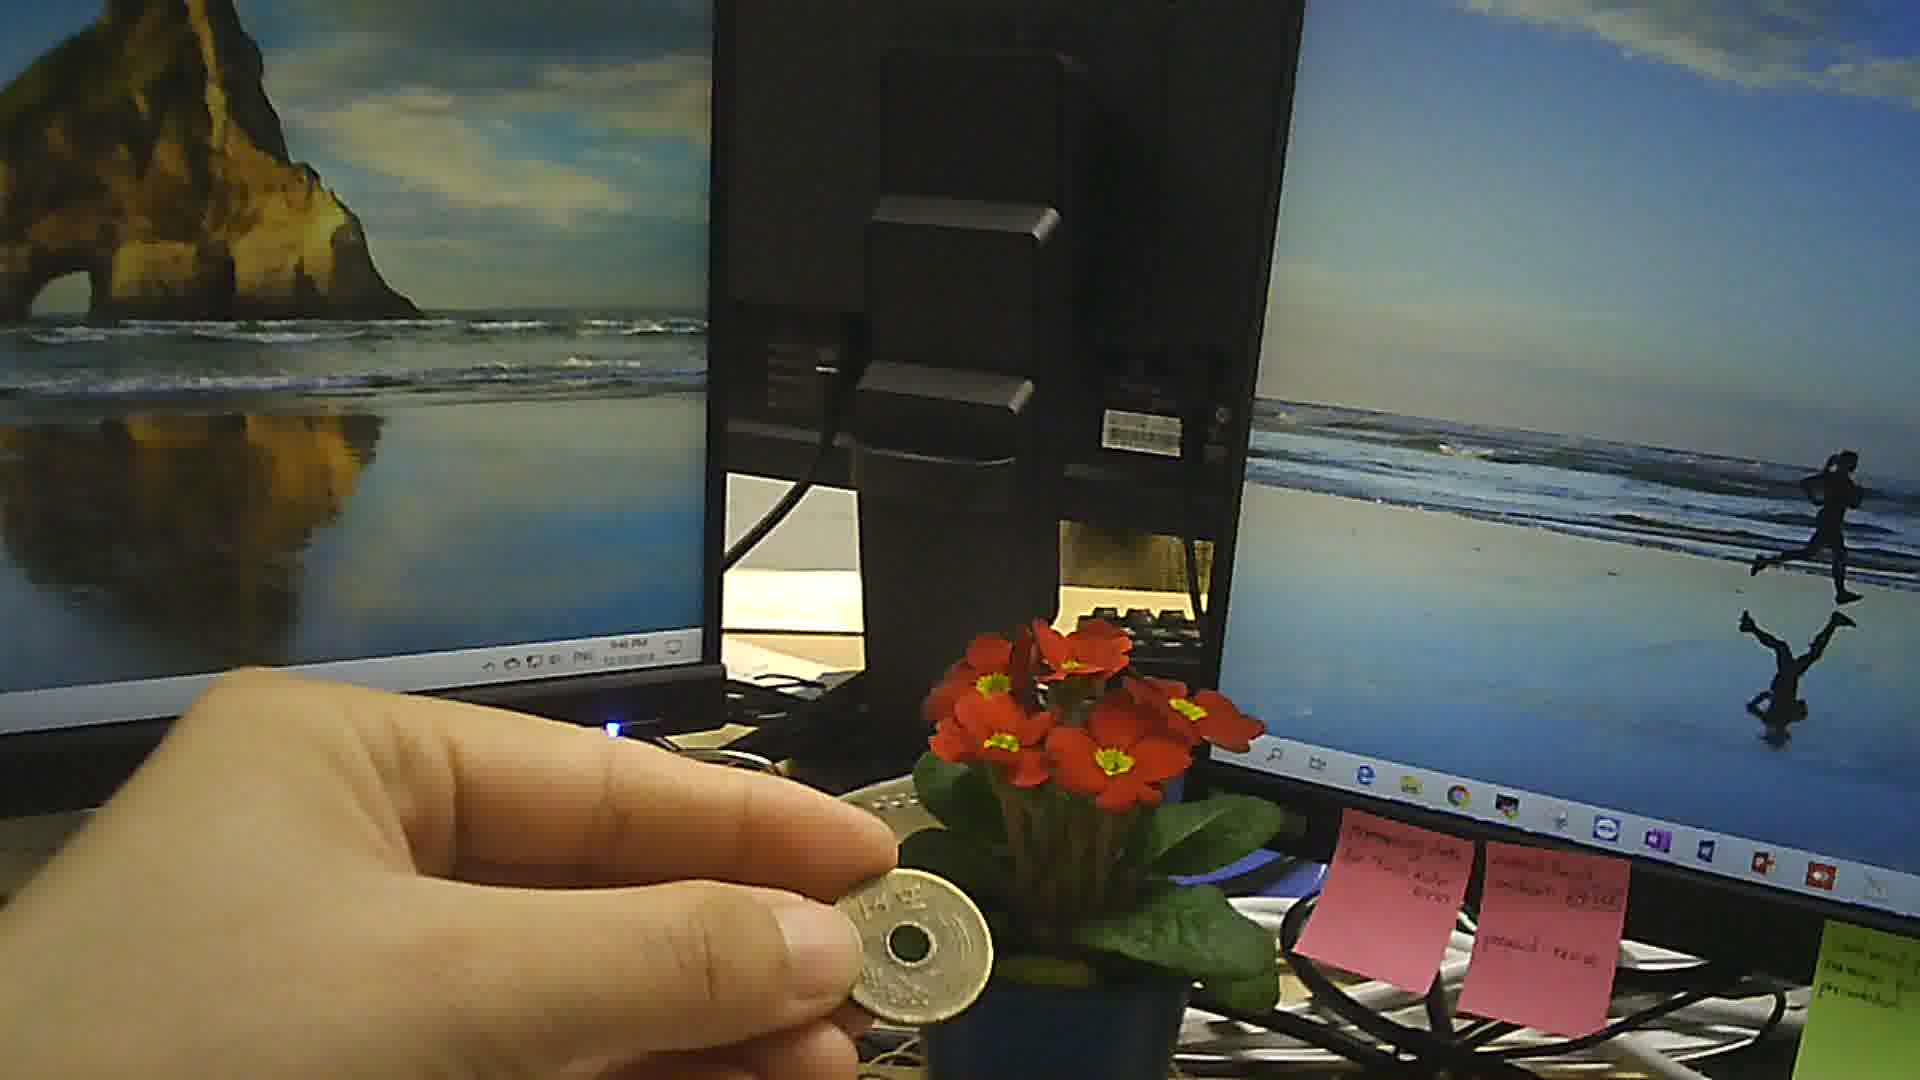5 Yen: (816, 851, 993, 1022)
